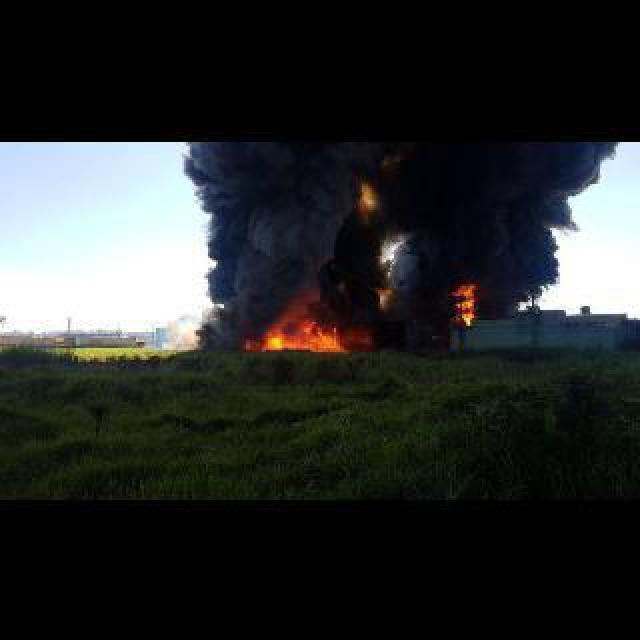Fire: (259, 316, 353, 356), (448, 282, 482, 328)
Smoke: (187, 142, 614, 356)
